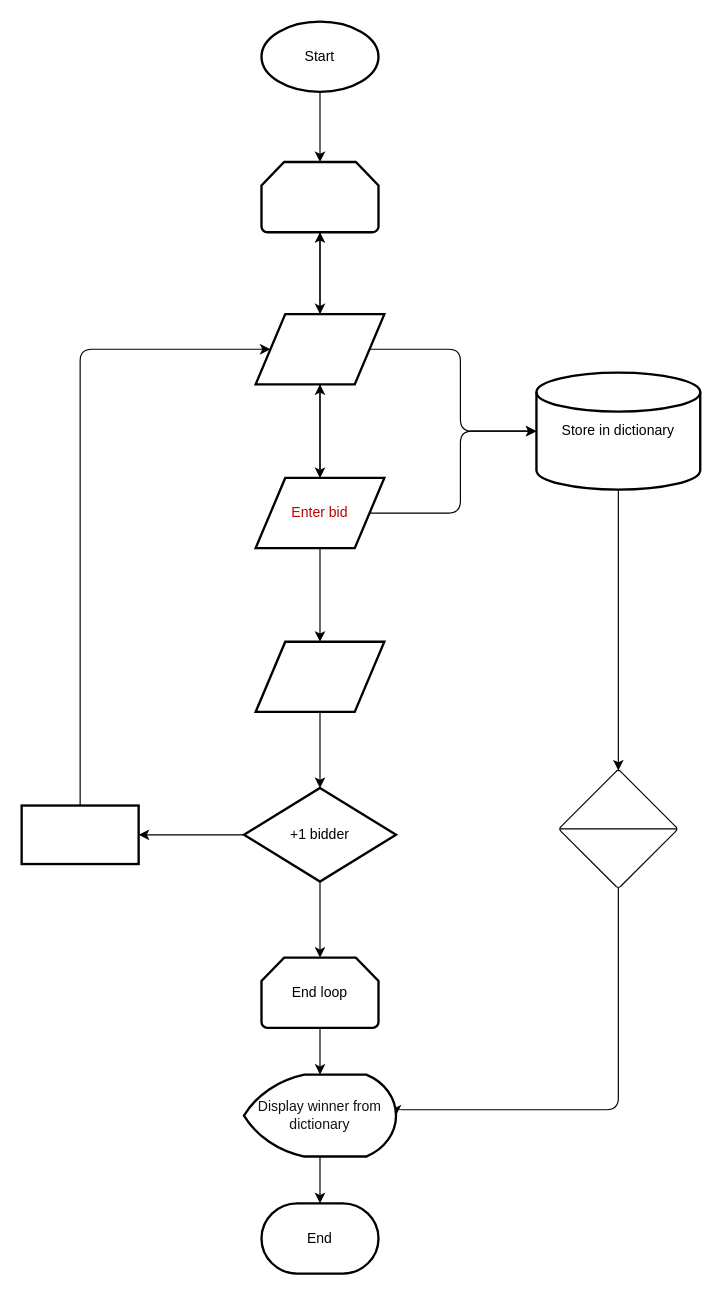
Image size: 721x1294. Some labels were removed from this diagram. Here are the shapes that lost their labels. From the top down, the box of each, then its label:
(260, 160, 379, 233): Enter loop
(254, 312, 385, 385): Enter name
(254, 640, 385, 713): Enter if other bidders
(20, 804, 139, 865): Clear page
